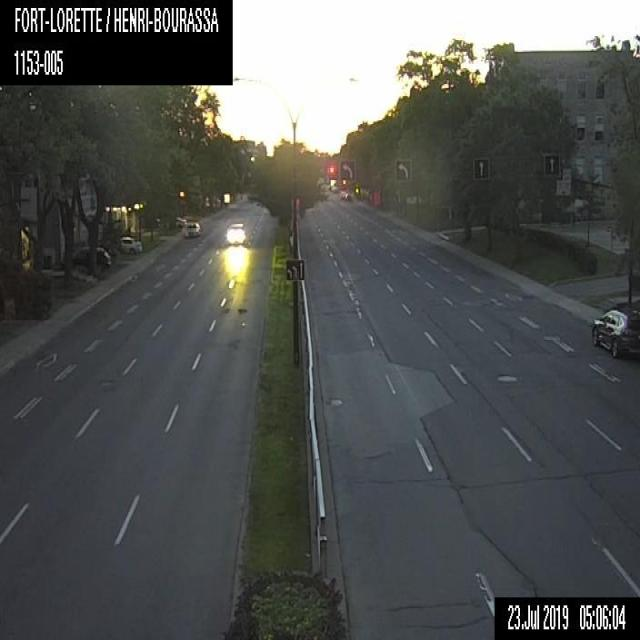vehicle: (590, 301, 639, 360), (65, 245, 110, 269), (109, 234, 141, 253), (226, 222, 244, 244), (181, 221, 200, 236), (173, 215, 186, 226)
